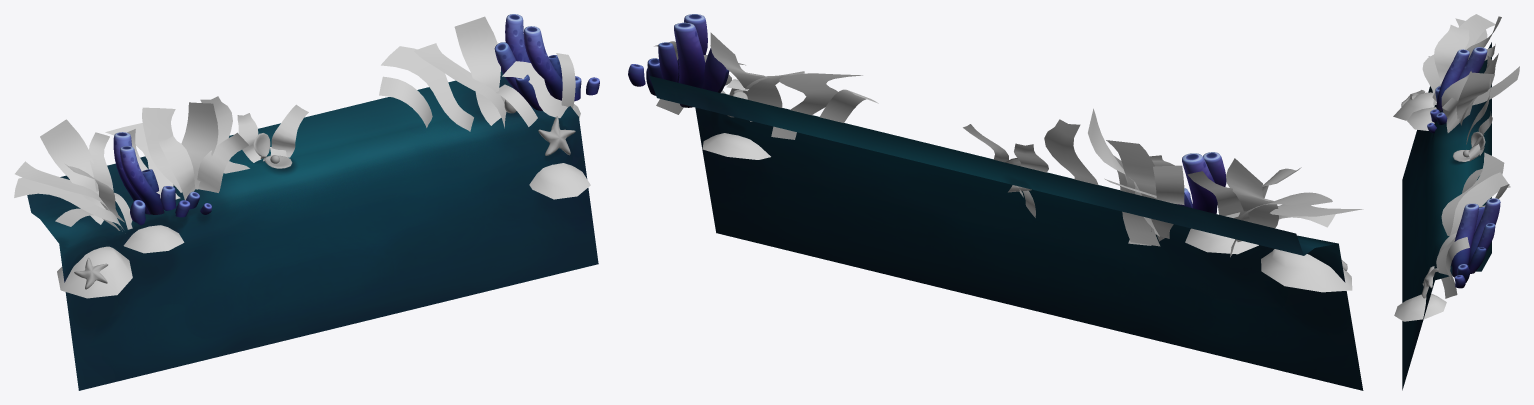
Rendered from Shelf2.fbx.
The picture shows the model from 3 angles, left to right: view 1: azimuth 30°, elevation 25°; view 2: azimuth 150°, elevation 25°; view 3: azimuth 270°, elevation 25°; orthographic projection. The views are drawn at different scales.
Parts seen in each view (by area): view 1: Shelf2; view 2: Shelf2; view 3: Shelf2.
Boxes of the visible parts, left/top/right/bottom form: Shelf2: left=14, top=14, right=599, bottom=390; Shelf2: left=628, top=14, right=1363, bottom=390; Shelf2: left=1393, top=14, right=1519, bottom=390.
Size of the model in its own units: 452 by 161 by 102.
